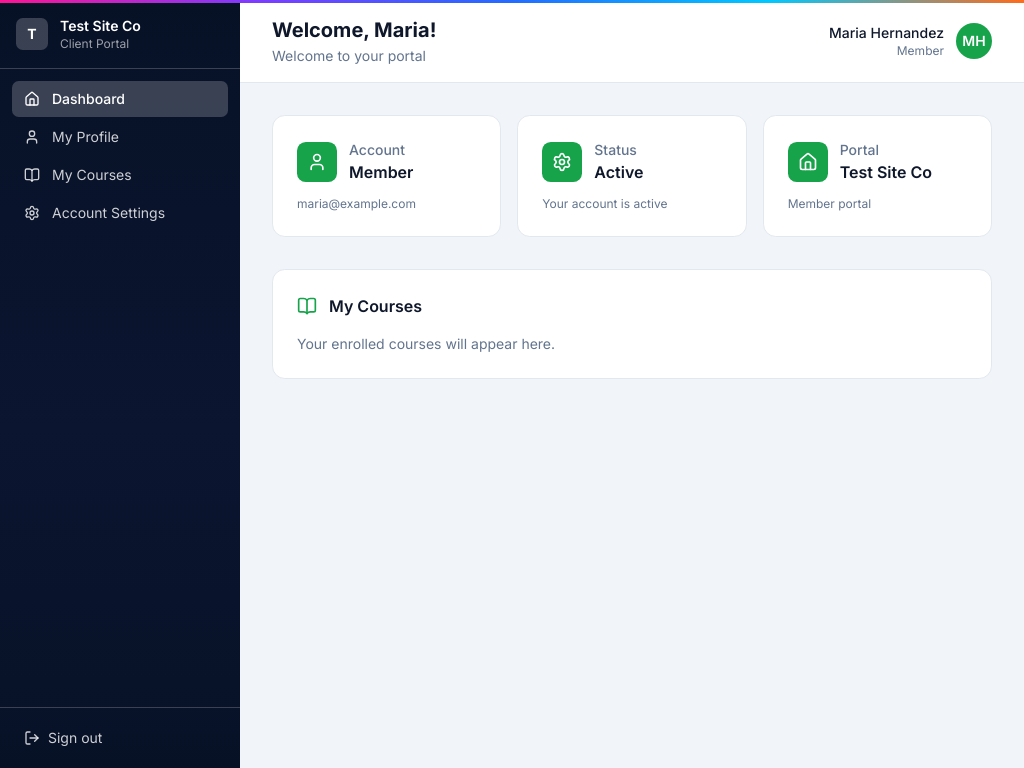
Test case: P5 FIX 1a — sidebar NavLinks are real interactive buttons › clicking Dashboard returns from a feature section
The width and height of the screenshot is (1024, 768).
Enter the Courses section (blurb card is the section body)
What coordinates should you click on to do the following:
click the button "My Courses"
I would click on:
 (120, 175)
Its box is [12,157,228,193].
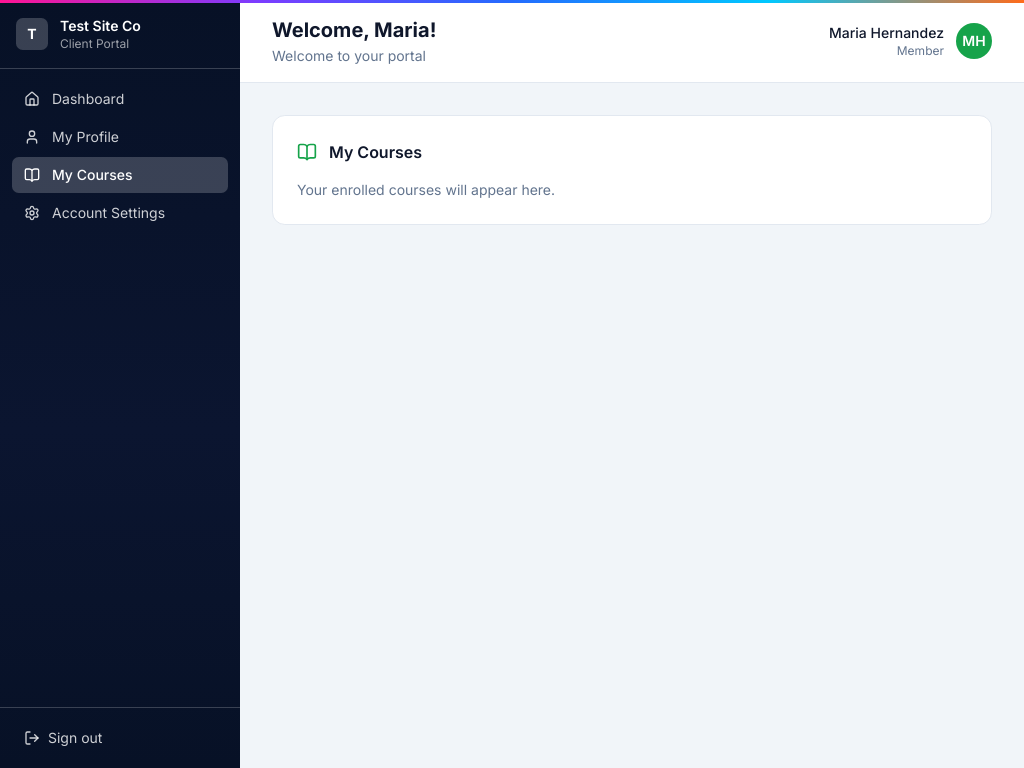
Back to Dashboard: the account summary cards render again
What coordinates should you click on to do the following:
click the button "Dashboard"
I would click on:
 (120, 99)
Its box is [12,81,228,117].
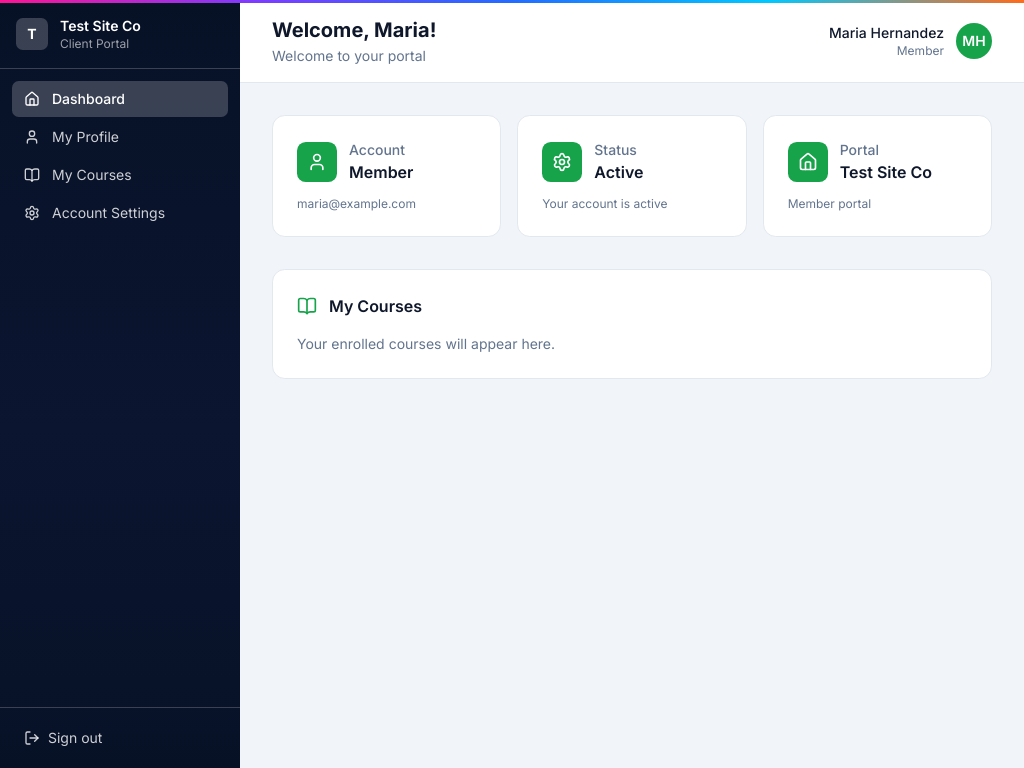
Check: the text "Account" is shown, box [349,140,413,160]
Check: the text "Status" is shown, box [594,140,643,160]
Check: the text "Portal" is shown, box [840,141,879,158]
